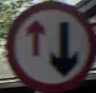Two way: (9, 6, 84, 81)
